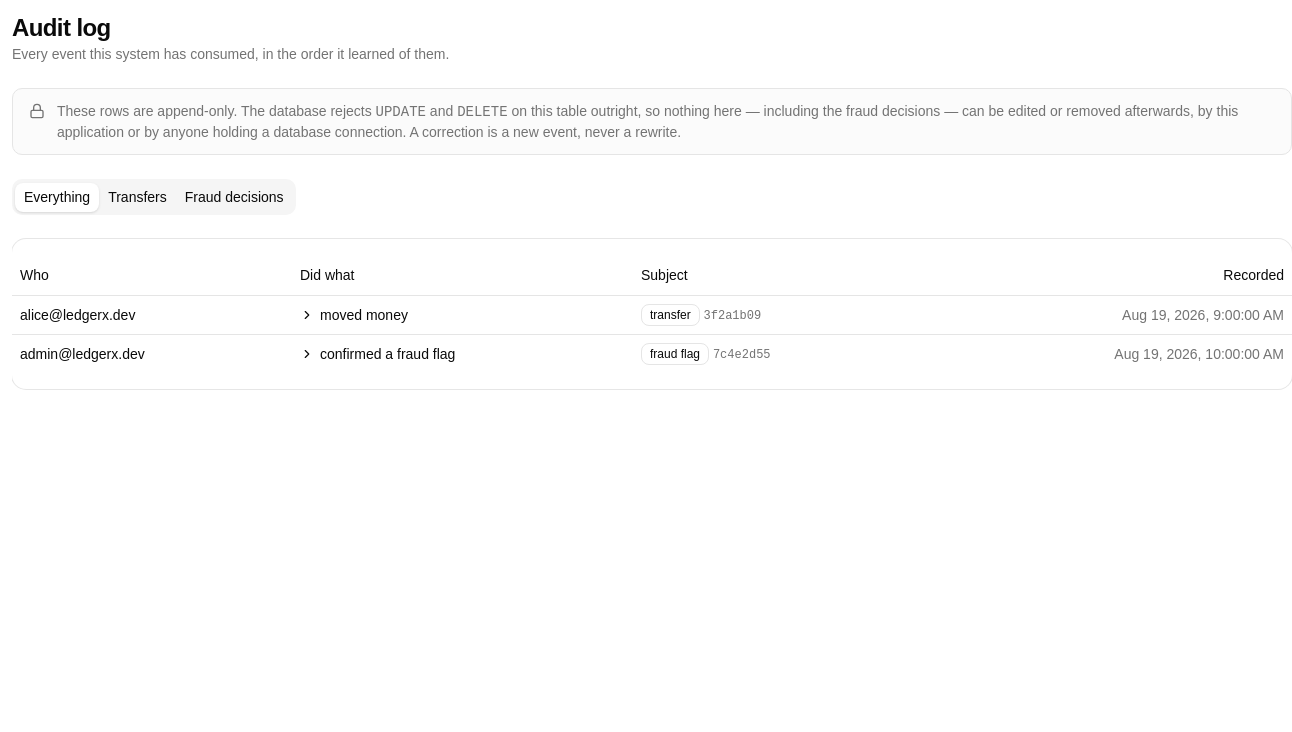
Scenario: who did what and when › shows the recorded event itself, and where it was delivered from
Click the button "moved money".
click(354, 314)  # box top-left (300, 304), bottom-right (408, 324)
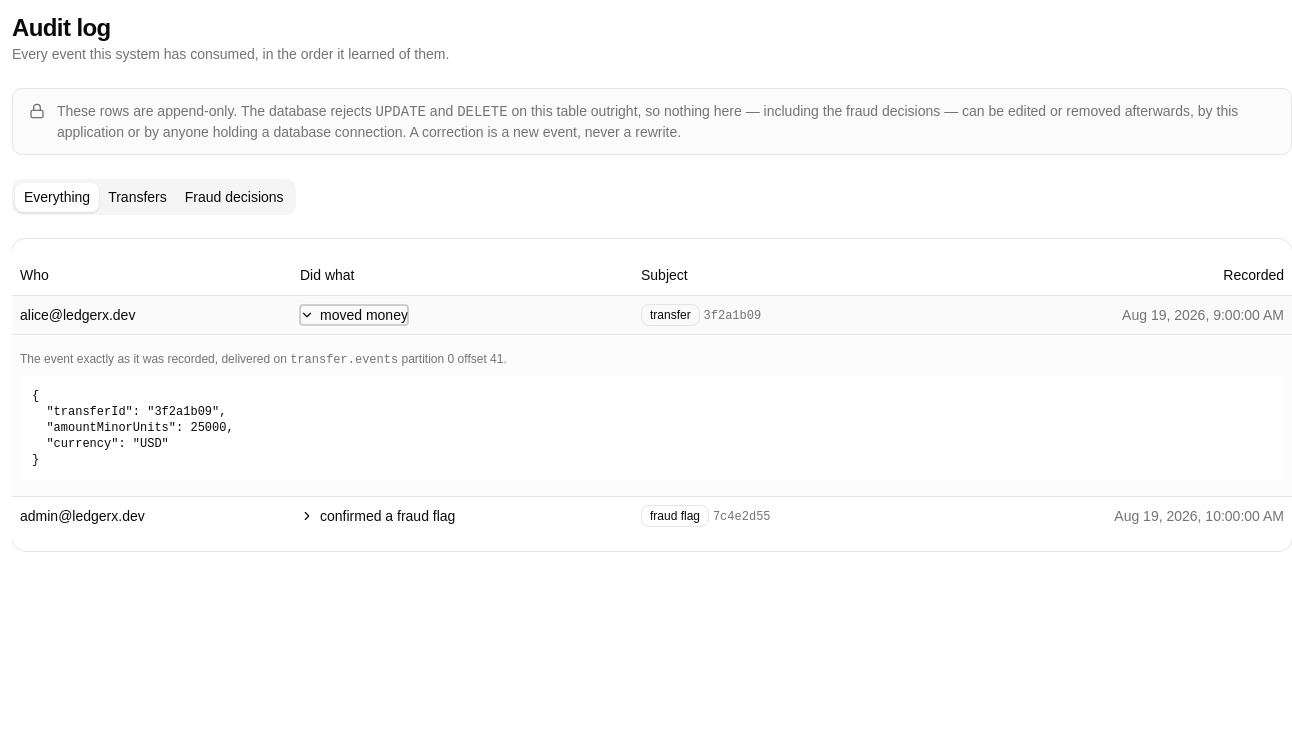
Expected: the text "\"amountMinorUnits\": 25000" is shown, top-left (32, 388), bottom-right (234, 466)
Expected: the text "transfer.events" is shown, top-left (290, 352), bottom-right (398, 366)
Expected: the text "offset 41" is shown, top-left (20, 352), bottom-right (507, 366)
